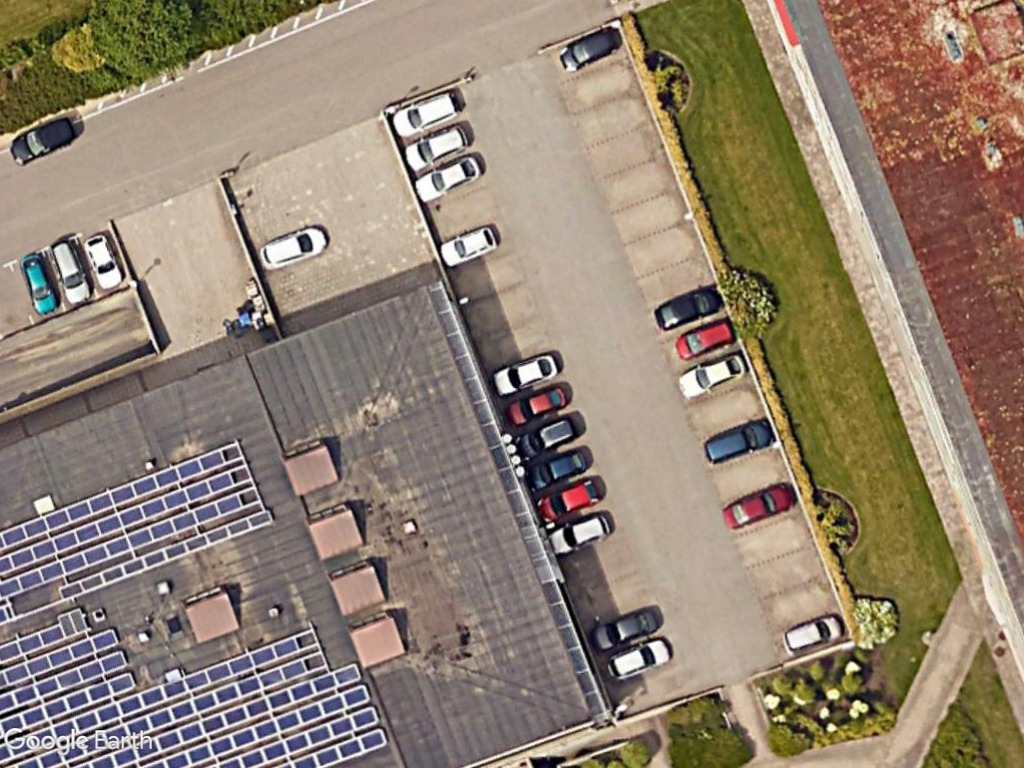car: (718, 477, 802, 535), (387, 86, 467, 142), (8, 111, 82, 169), (532, 473, 604, 529), (401, 119, 477, 171), (701, 414, 777, 466), (413, 149, 484, 204), (674, 348, 745, 402), (603, 633, 675, 686), (256, 224, 331, 274), (519, 444, 593, 494), (491, 348, 561, 400), (588, 604, 662, 653), (499, 381, 571, 431), (547, 509, 617, 560), (47, 235, 95, 306), (655, 281, 722, 331), (16, 247, 63, 316), (516, 413, 581, 462), (439, 220, 503, 269), (776, 611, 843, 654), (674, 316, 737, 360), (82, 228, 124, 289)
